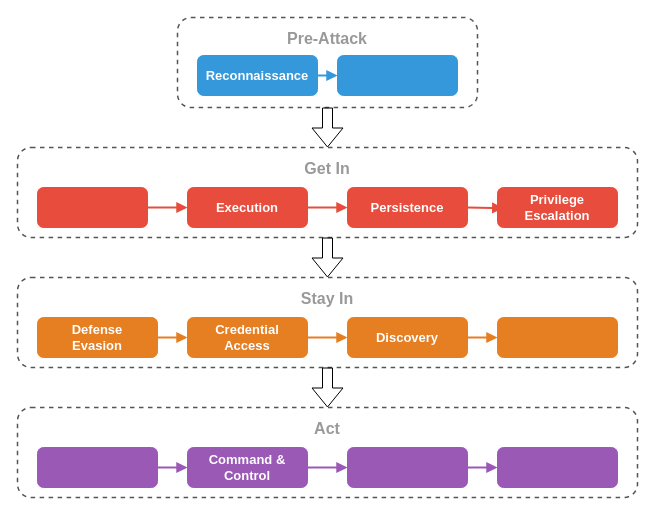
The diagram is 656 pixels wide and 516 high, and some of its shapes have lost their labels. Each missing label, with the centre of its shape:
"Collection" goes at point (97, 467).
"Exfiltration" goes at point (407, 467).
"Impact" goes at point (557, 467).
"Initial Access" goes at point (92, 207).
"Lateral Movement" goes at point (557, 337).
"Resource Development" goes at point (397, 75).
